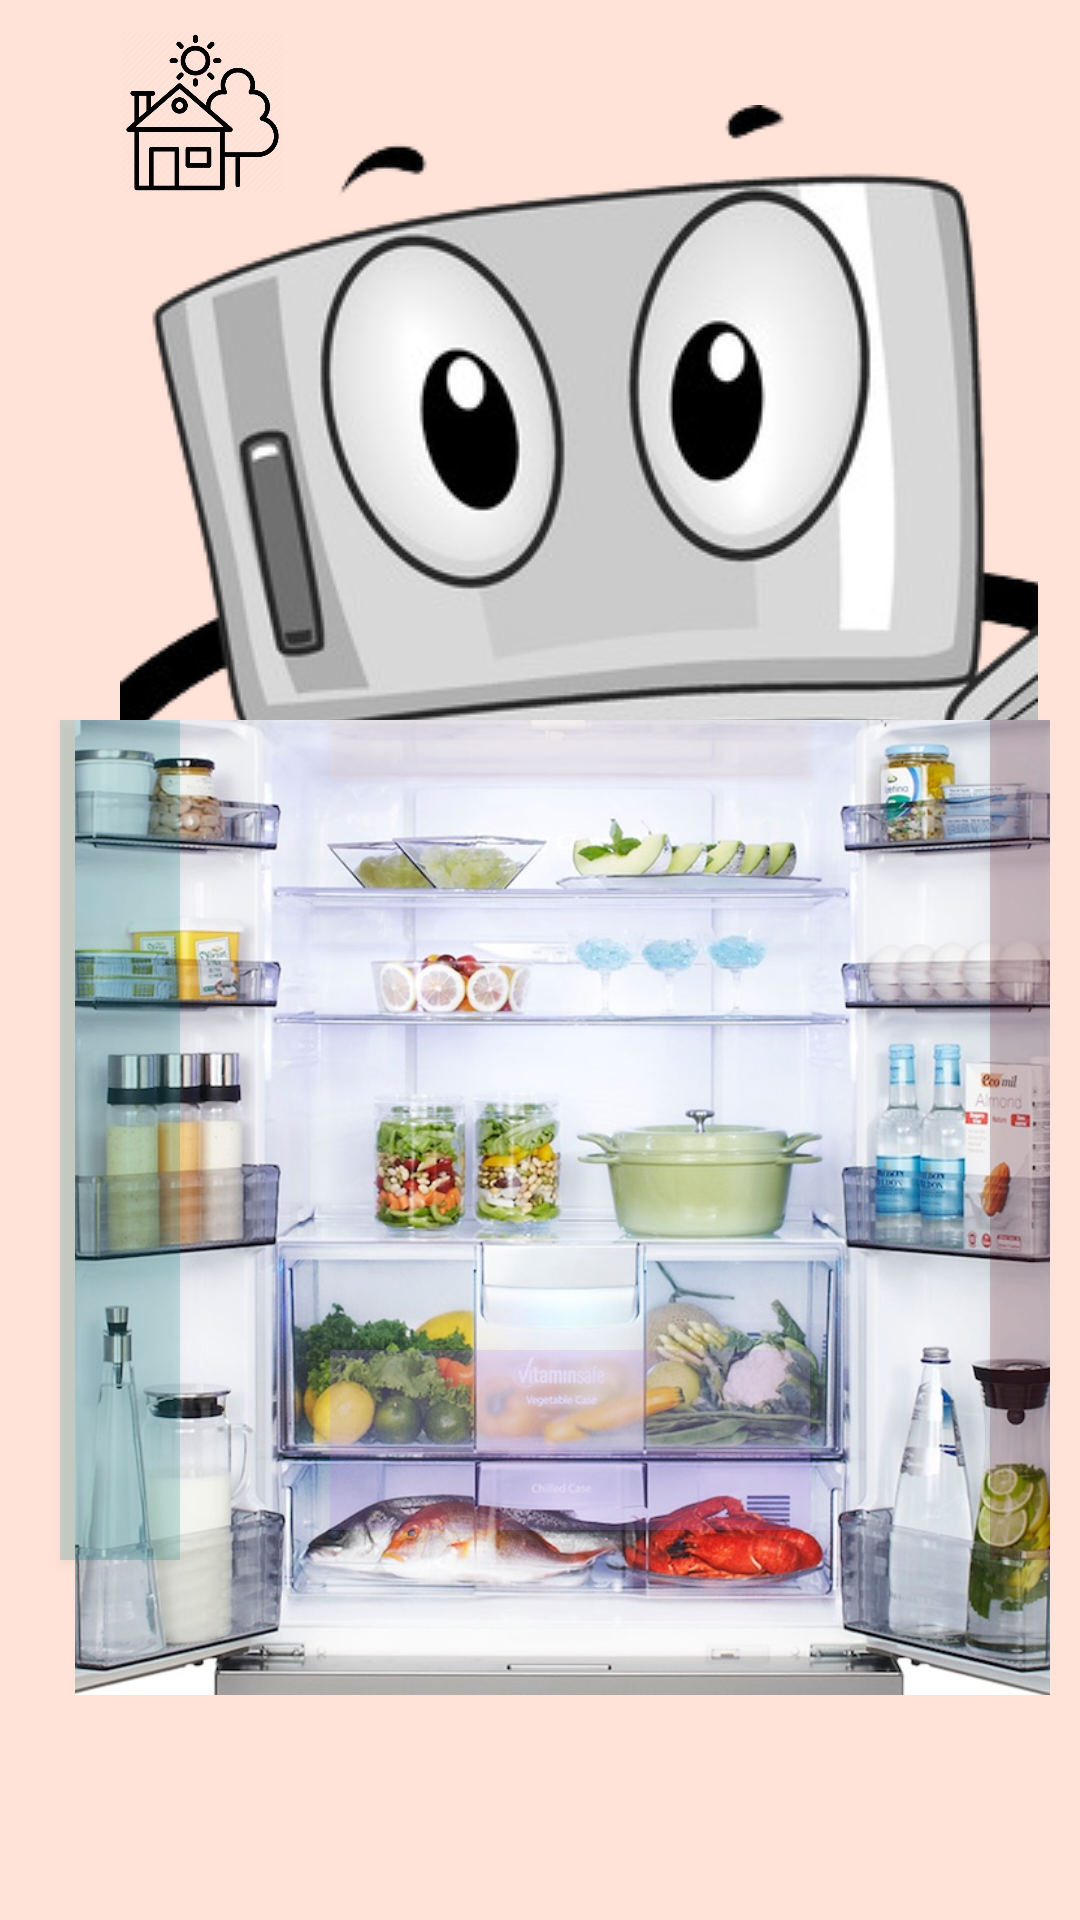

Where icons sit on this 1080w x 1920h app screen, as Rect(x1, y1, x2, y2):
house: Rect(126, 34, 279, 191)
